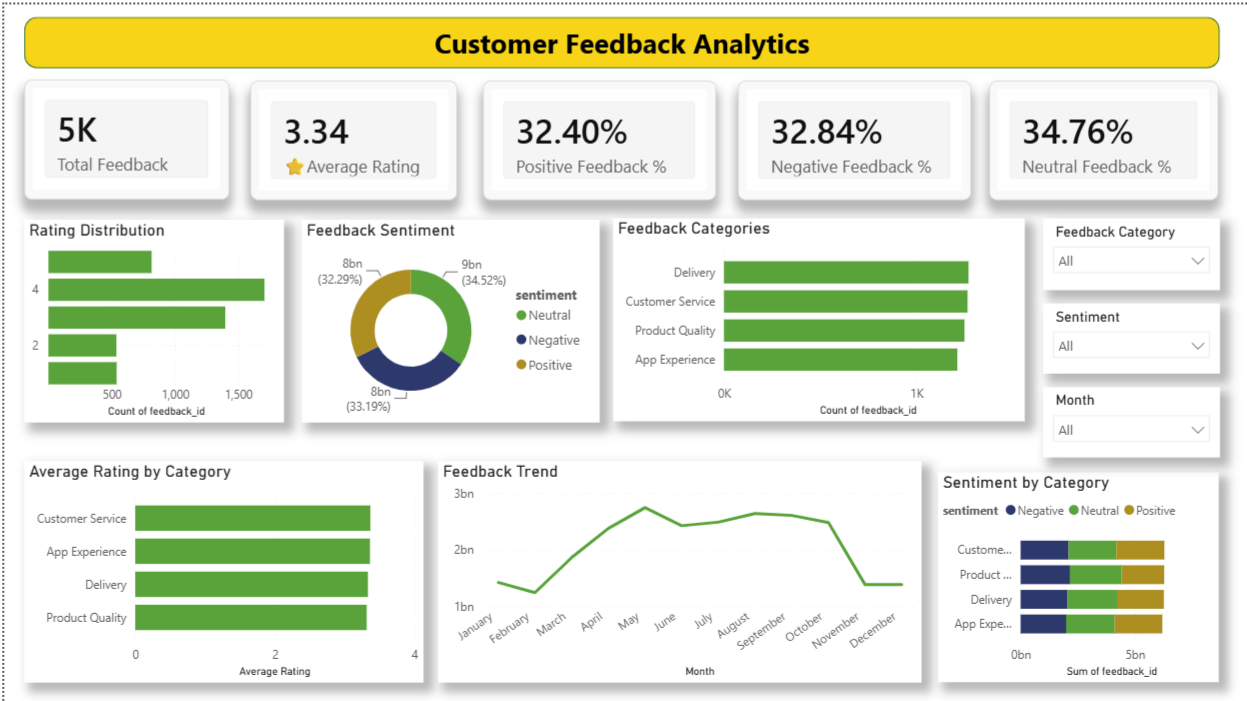

What the dashboard file says about the page in this screenshot:
{"tool":"powerbi","page":{"name":"Customer Feedback Analytics","canvas":[1280,720],"ordinal":4},"visuals":[{"type":"shape","title":"Blinkit Business Analytics Dashboard","box":[20,12.5,1226.2,52.5],"z":0},{"type":"cardVisual","fields":{"Data":["Feedback.Total Feedback"]},"box":[20,77.1,210,122.9],"z":1000},{"type":"cardVisual","fields":{"Data":["Measures (2).Average Rating"]},"box":[252,78,212,122],"z":2000},{"type":"cardVisual","fields":{"Data":["Feedback.Positive Feedback %"]},"box":[491,78,239,122],"z":3000},{"type":"cardVisual","fields":{"Data":["Feedback.Negative Feedback %"]},"box":[752.6,77.6,239.5,122.4],"z":4000},{"type":"cardVisual","fields":{"Data":["Feedback.Neutral Feedback %"]},"box":[1010.5,77.6,235.5,122.4],"z":5000},{"type":"barChart","title":"Rating Distribution","fields":{"Y":["CountNonNull(Feedback.feedback_id)"],"Category":["Feedback.rating"]},"box":[20.8,220.1,266.6,207.9],"z":6000},{"type":"donutChart","title":"Feedback Sentiment","fields":{"Y":["Sum(Feedback.feedback_id)"],"Category":["Feedback.sentiment"]},"box":[305.4,220.3,305.4,208.1],"z":7000},{"type":"clusteredBarChart","title":"Feedback Categories","fields":{"Y":["CountNonNull(Feedback.feedback_id)"],"Category":["Feedback.feedback_category"]},"box":[624.4,219.8,422.1,208.1],"z":8000},{"type":"clusteredBarChart","title":"Average Rating by Category","fields":{"Category":["Feedback.feedback_category"],"Y":["Measures (2).Average Rating"]},"box":[20.3,467.6,409.5,227],"z":9000},{"type":"lineChart","title":"Feedback Trend","fields":{"Category":["Feedback.feedback_date.Variation.Date Hierarchy.Month"],"Y":["Sum(Feedback.feedback_id)"]},"box":[444.6,467.6,495.9,227],"z":10000},{"type":"barChart","title":"Sentiment by Category","fields":{"Category":["Feedback.feedback_category"],"Series":["Feedback.sentiment"],"Y":["Sum(Feedback.feedback_id)"]},"box":[958.1,479.1,288.4,215.1],"z":11000},{"type":"slicer","fields":{"Values":["Feedback.feedback_category"]},"box":[1065.1,219.8,181.4,73.3],"z":12000},{"type":"slicer","fields":{"Values":["Feedback.sentiment"]},"box":[1065.1,305.8,181.4,72.1],"z":13000},{"type":"slicer","fields":{"Values":["Feedback.feedback_date.Variation.Date Hierarchy.Month"]},"box":[1065.1,391.9,181.4,72.1],"z":14000}]}

Visuals, with their boxes in screenshot pixels (x1, y1, x2, y2), scaled from the page's 1280x720 canvas onto the 1247x701 screenshot:
"Blinkit Business Analytics Dashboard" shape: locate(19, 12, 1214, 63)
cardVisual - Feedback.Total Feedback: locate(19, 75, 224, 195)
cardVisual - Measures (2).Average Rating: locate(246, 76, 452, 195)
cardVisual - Feedback.Positive Feedback %: locate(478, 76, 711, 195)
cardVisual - Feedback.Negative Feedback %: locate(733, 76, 967, 195)
cardVisual - Feedback.Neutral Feedback %: locate(984, 76, 1214, 195)
"Rating Distribution" barChart: locate(20, 214, 280, 417)
"Feedback Sentiment" donutChart: locate(298, 214, 595, 417)
"Feedback Categories" clusteredBarChart: locate(608, 214, 1020, 417)
"Average Rating by Category" clusteredBarChart: locate(20, 455, 419, 676)
"Feedback Trend" lineChart: locate(433, 455, 916, 676)
"Sentiment by Category" barChart: locate(933, 466, 1214, 676)
slicer - Feedback.feedback_category: locate(1038, 214, 1214, 285)
slicer - Feedback.sentiment: locate(1038, 298, 1214, 368)
slicer - Feedback.feedback_date.Variation.Date Hierarchy.Month: locate(1038, 382, 1214, 452)
